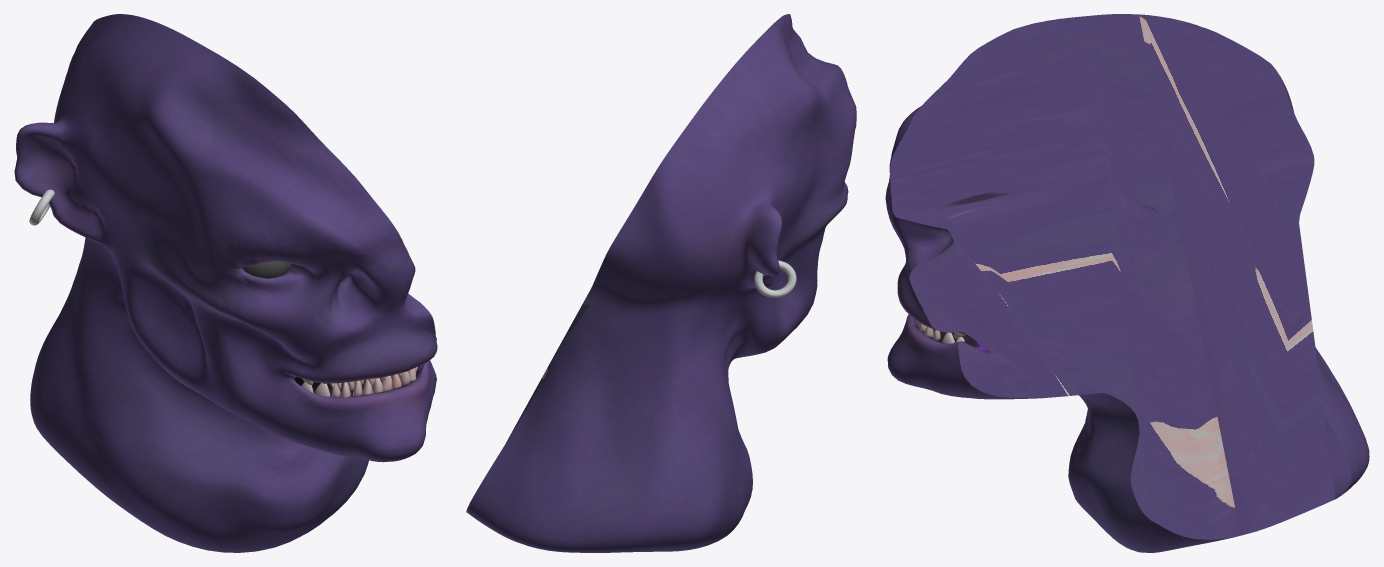
File: alien1back-compressed.glb
3 renders of one model, left to right at view 1: azimuth 30°, elevation 25°; view 2: azimuth 150°, elevation 25°; view 3: azimuth 270°, elevation 25°, orthographic. The views are drawn at different scales.
Parts seen in each view (by area): view 1: defaultMaterial; view 2: defaultMaterial; view 3: defaultMaterial.
Part boxes in pixels (x1,y1,x2,y2): defaultMaterial: (14,14,437,552); defaultMaterial: (466,14,856,552); defaultMaterial: (885,14,1369,552).
Size of the model in its own units: 0.6163 by 1.02 by 0.9247.
Materials: 1 (1 with a texture image).
